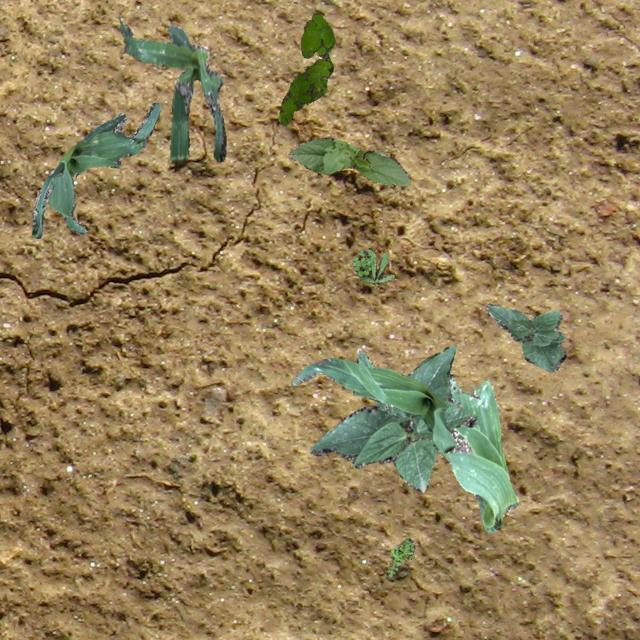crop: (308, 344, 476, 492), (30, 101, 160, 238), (292, 356, 454, 452), (119, 20, 225, 162), (438, 370, 518, 532), (288, 136, 410, 184), (486, 302, 564, 370), (356, 348, 404, 416)
weed: (278, 11, 334, 124), (352, 247, 394, 284), (384, 536, 414, 578)
